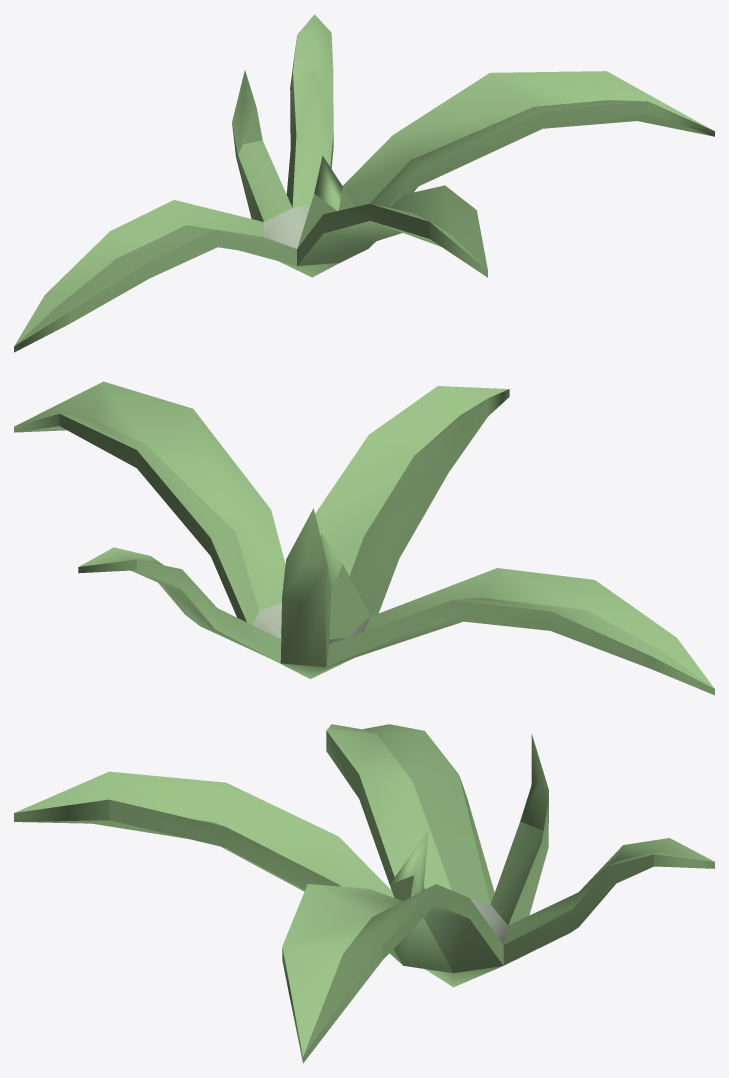
The model's file is aloe_vera_lanberized.fbx.
3 renders of one model, top to bottom at view 1: azimuth 30°, elevation 25°; view 2: azimuth 150°, elevation 25°; view 3: azimuth 270°, elevation 25°, orthographic. The views are drawn at different scales.
Parts seen in each view (by area): view 1: pCube1; view 2: pCube1; view 3: pCube1.
Boxes of the visible parts, x1=… form: pCube1: x1=14, y1=14, x2=714, y2=352; pCube1: x1=14, y1=381, x2=714, y2=695; pCube1: x1=14, y1=724, x2=714, y2=1063.
Bounding box in the file's own units: 6.11 × 1.66 × 4.51.
